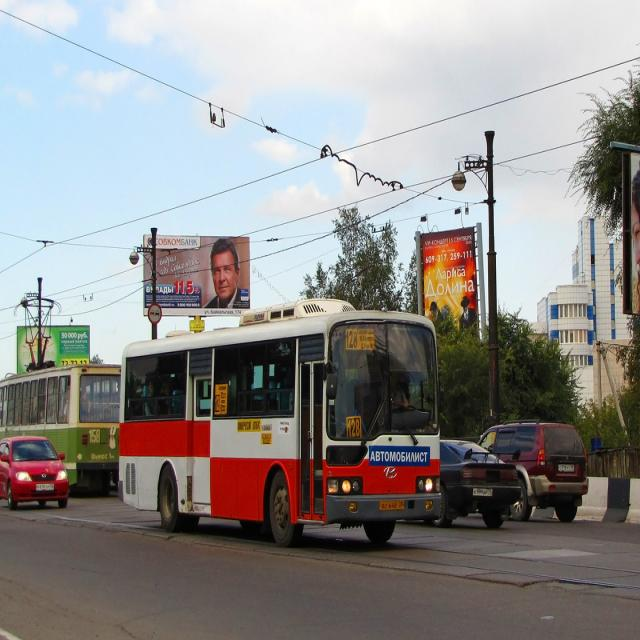number-of-bus: (348, 420, 363, 439), (347, 330, 360, 351)
